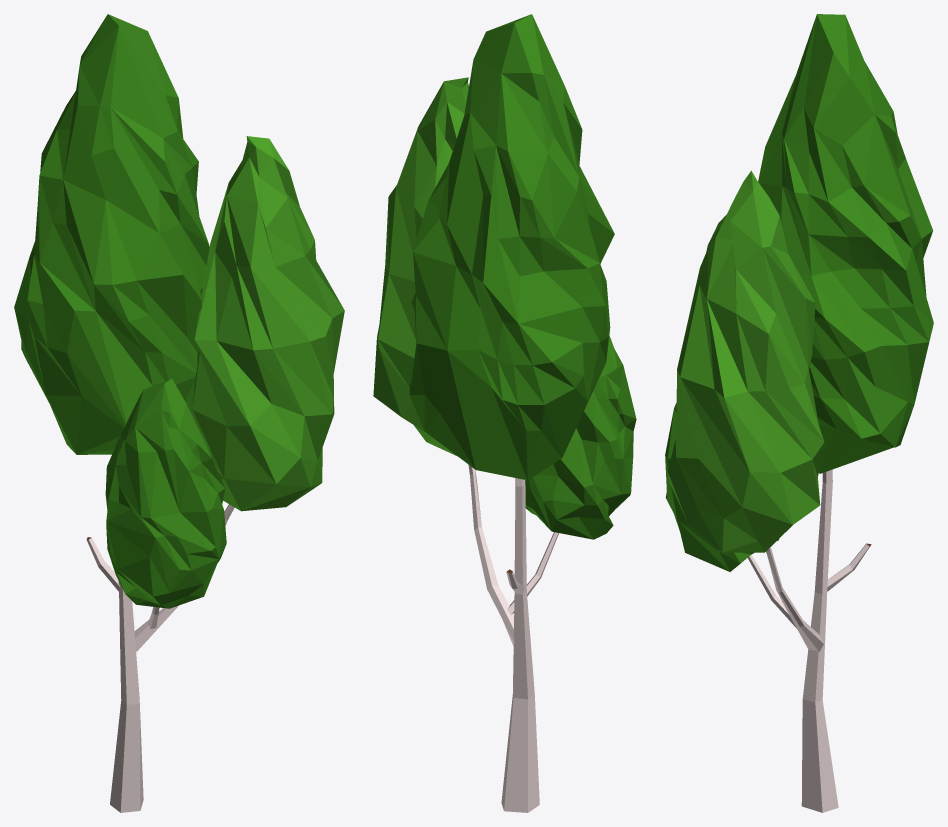
Rendered from BirchTree_004.FBX.
3 renders of one model, left to right at view 1: azimuth 30°, elevation 25°; view 2: azimuth 150°, elevation 25°; view 3: azimuth 270°, elevation 25°, orthographic.
Visible parts, largest first — view 1: GeoSphere011, GeoSphere012, GeoSphere010, Cylinder006, Cylinder007; view 2: GeoSphere011, GeoSphere012, GeoSphere010, Cylinder006, Cylinder007, Cylinder009; view 3: GeoSphere011, GeoSphere012, Cylinder006, GeoSphere010, Cylinder007, Cylinder009.
Part boxes in pixels (x1,y1,x2,y2): GeoSphere011: [14, 14, 209, 454]; GeoSphere012: [185, 136, 344, 511]; GeoSphere010: [105, 378, 226, 608]; Cylinder006: [110, 581, 143, 812]; Cylinder007: [134, 504, 234, 651]; GeoSphere011: [409, 14, 614, 480]; GeoSphere012: [373, 77, 468, 456]; GeoSphere010: [525, 335, 636, 539]; Cylinder006: [501, 478, 539, 812]; Cylinder007: [468, 465, 514, 645]; Cylinder009: [507, 532, 559, 614]; GeoSphere011: [758, 14, 933, 473]; GeoSphere012: [668, 170, 824, 552]; Cylinder006: [801, 469, 838, 812]; GeoSphere010: [665, 402, 778, 571]; Cylinder007: [766, 547, 823, 651]; Cylinder009: [748, 554, 796, 628].
Size of the model in its own units: 25.8 by 73.33 by 22.72.
